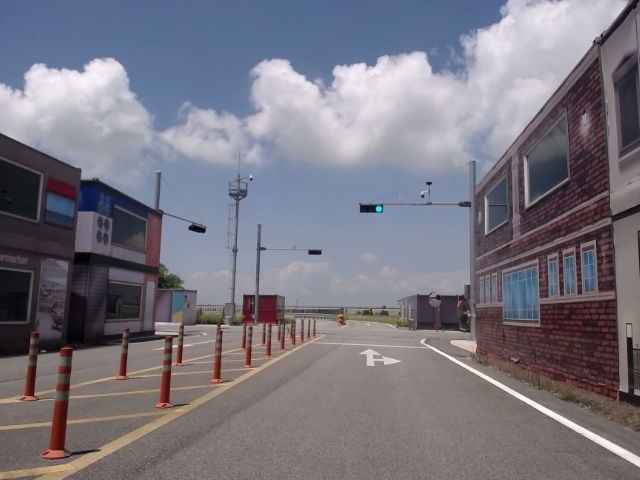green_3: (361, 205, 383, 212)
